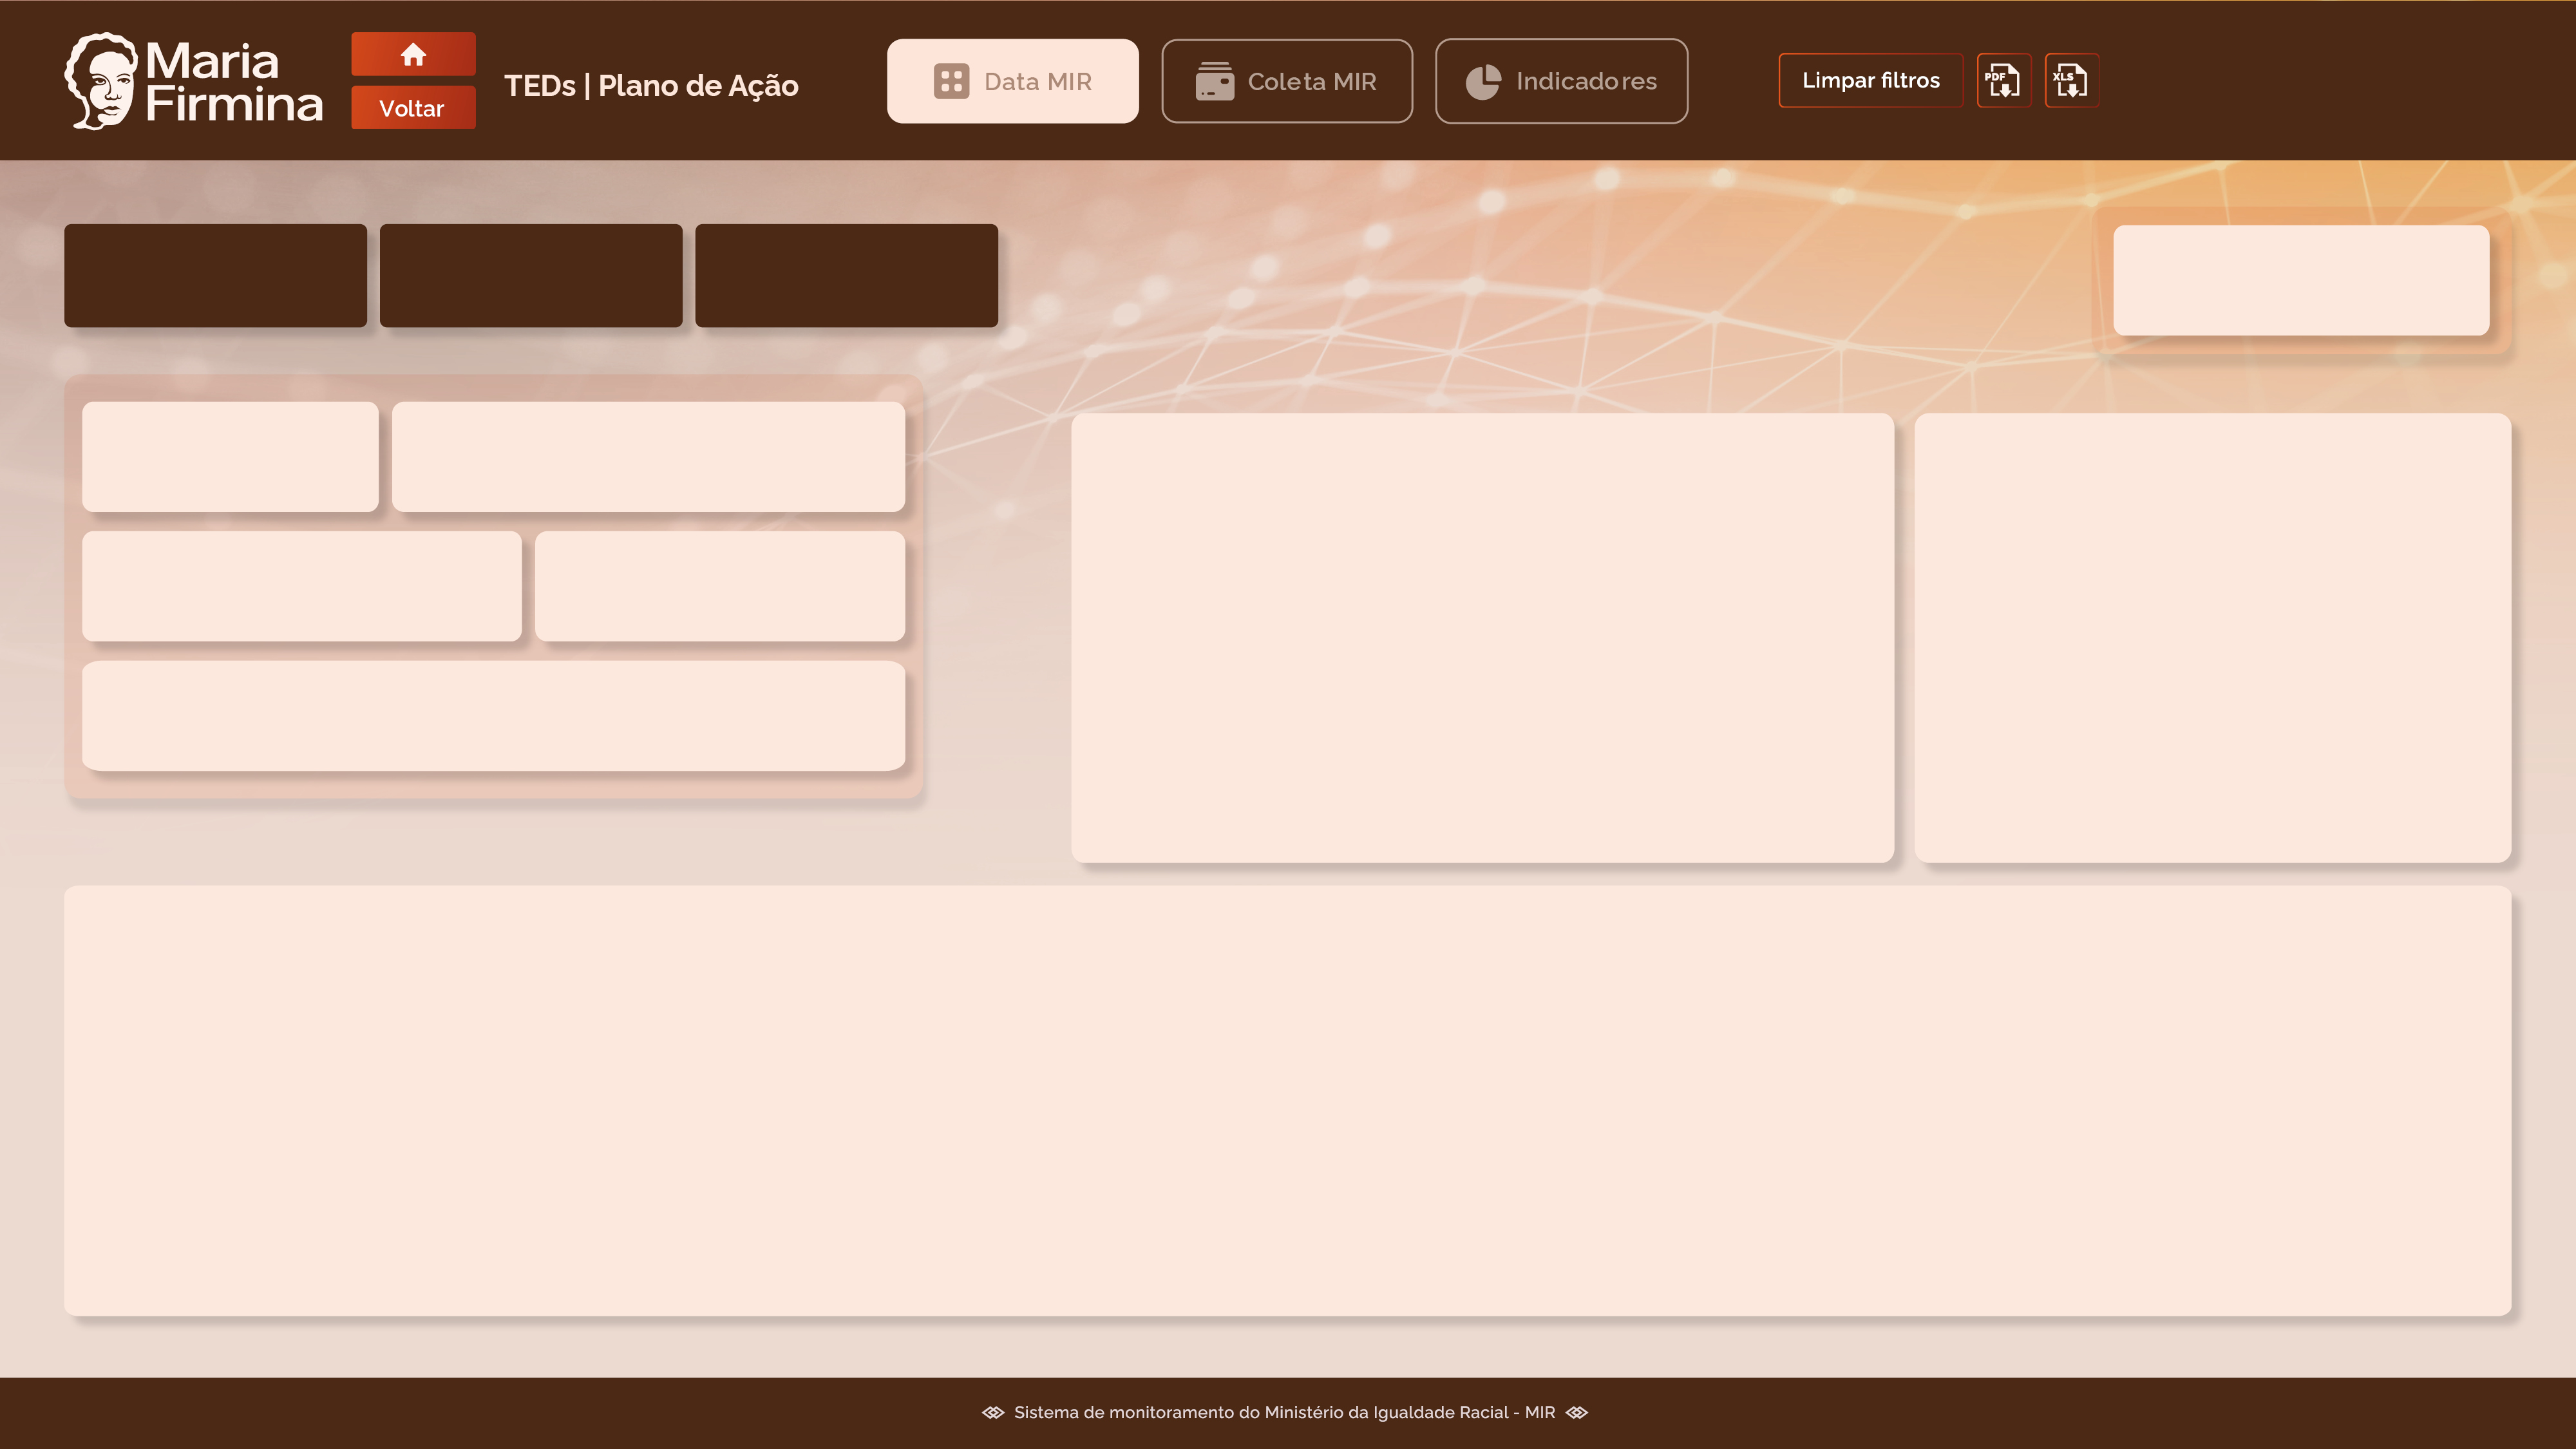

Layout of this report page (visuals, bound fields, positions):
{"tool":"powerbi","page":{"name":"TEDs Notas de Crédito","canvas":[1920,1080],"ordinal":14},"visuals":[{"type":"cardVisual","fields":{"Data":["_medidas.Qtd NC TED"]},"box":[50,169.4,213.3,67.8],"z":0},{"type":"cardVisual","fields":{"Data":["_medidas.Valor Total NC TED"]},"box":[287.1,170,210,67.1],"z":1000},{"type":"cardVisual","fields":{"Data":["_medidas.Qtd Favorecidos NC TED"]},"box":[520,170,211.1,67.8],"z":2000},{"type":"slicer","fields":{"Values":["nc_plano_acao.codigo+programaGoverno"]},"box":[1202.9,282.9,285.7,68.6],"z":3000},{"type":"slicer","fields":{"Values":["nc_plano_acao.favorecido_municipio_descricao"]},"box":[642.9,282.9,261.4,68.6],"z":4000},{"type":"slicer","fields":{"Values":["nc_plano_acao.nc_ug_responsavel_descricao"]},"box":[1510,282.9,345.7,68.6],"z":5000},{"type":"slicer","fields":{"Values":["nc_plano_acao.favorecido_doc_descricao"]},"box":[295.7,282.9,330,68.6],"z":6000},{"type":"slicer","fields":{"Values":["nc_plano_acao.nc_natureza_despesa_descricao"]},"box":[917.1,282.9,275.7,67.1],"z":7000},{"type":"tableEx","fields":{"Values":["nc_plano_acao.emissao_ano","nc_plano_acao.nc","nc_plano_acao.nc_transferencia","nc_plano_acao.acao_governo_descricao","nc_plano_acao.nc_ug_responsavel_descricao","nc_plano_acao.favorecido_municipio_descricao","nc_plano_acao.favorecido_doc_descricao","nc_plano_acao.nc_fonte_recursos_descricao","nc_plano_acao.nc_natureza_despesa_descricao","Sum(nc_plano_acao.valor_celula)"]},"box":[55.7,410,1812.9,567.1],"z":8000},{"type":"slicer","fields":{"Values":["nc_plano_acao.emissao_ano"]},"box":[65.7,282.9,212.9,68.6],"z":10000},{"type":"actionButton","box":[261.5,62,94.3,32.9],"z":11000},{"type":"actionButton","box":[261.7,22.8,92.2,33.3],"z":12000},{"type":"textbox","box":[1642.6,29.3,167.6,71.8],"z":13000},{"type":"actionButton","box":[1326.7,40.7,137.8,38.9],"z":14000},{"type":"image","box":[1820,42,53.3,37.8],"z":15000},{"type":"actionButton","box":[661.3,28.7,187.3,62.7],"z":16000},{"type":"actionButton","box":[866,28.7,187.3,62.7],"z":17000},{"type":"actionButton","box":[1069.3,30,187.3,62.7],"z":18000},{"type":"pageNavigator","box":[49.1,132.7,910.9,23.6],"z":19000}]}

Visuals, with their boxes on the page's 1920x1080 design canvas (x1, y1, x2, y2). These are canvas units, not pixel positions in the 2576x1449 screenshot, which may show the page scaled, cropped or inside an application window:
cardVisual - _medidas.Qtd NC TED: x1=50, y1=169, x2=263, y2=237
cardVisual - _medidas.Valor Total NC TED: x1=287, y1=170, x2=497, y2=237
cardVisual - _medidas.Qtd Favorecidos NC TED: x1=520, y1=170, x2=731, y2=238
slicer - nc_plano_acao.codigo+programaGoverno: x1=1203, y1=283, x2=1489, y2=352
slicer - nc_plano_acao.favorecido_municipio_descricao: x1=643, y1=283, x2=904, y2=352
slicer - nc_plano_acao.nc_ug_responsavel_descricao: x1=1510, y1=283, x2=1856, y2=352
slicer - nc_plano_acao.favorecido_doc_descricao: x1=296, y1=283, x2=626, y2=352
slicer - nc_plano_acao.nc_natureza_despesa_descricao: x1=917, y1=283, x2=1193, y2=350
tableEx - nc_plano_acao.emissao_ano x nc_plano_acao.nc: x1=56, y1=410, x2=1869, y2=977
slicer - nc_plano_acao.emissao_ano: x1=66, y1=283, x2=279, y2=352
actionButton: x1=262, y1=62, x2=356, y2=95
actionButton: x1=262, y1=23, x2=354, y2=56
textbox: x1=1643, y1=29, x2=1810, y2=101
actionButton: x1=1327, y1=41, x2=1464, y2=80
image: x1=1820, y1=42, x2=1873, y2=80
actionButton: x1=661, y1=29, x2=849, y2=91
actionButton: x1=866, y1=29, x2=1053, y2=91
actionButton: x1=1069, y1=30, x2=1257, y2=93
pageNavigator: x1=49, y1=133, x2=960, y2=156
